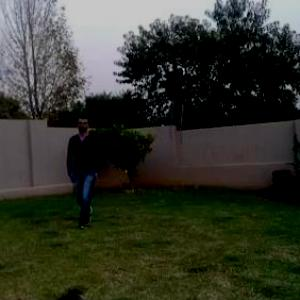follow: (68, 116, 103, 225)
